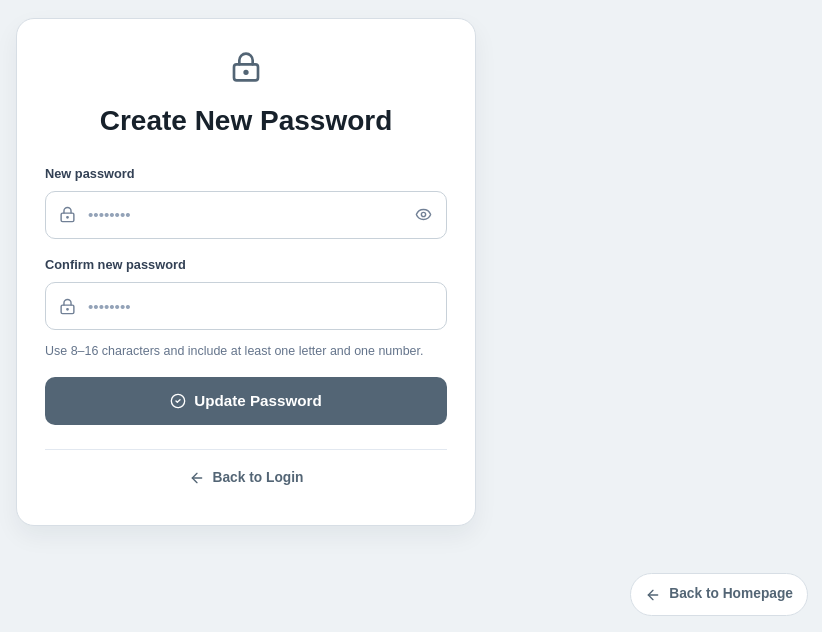
ResetPassword › blocks a second submission while the reset is in flight
In the password field labelled "New password": [246, 215] box [45, 191, 447, 239], type "Str0ng!Pass"
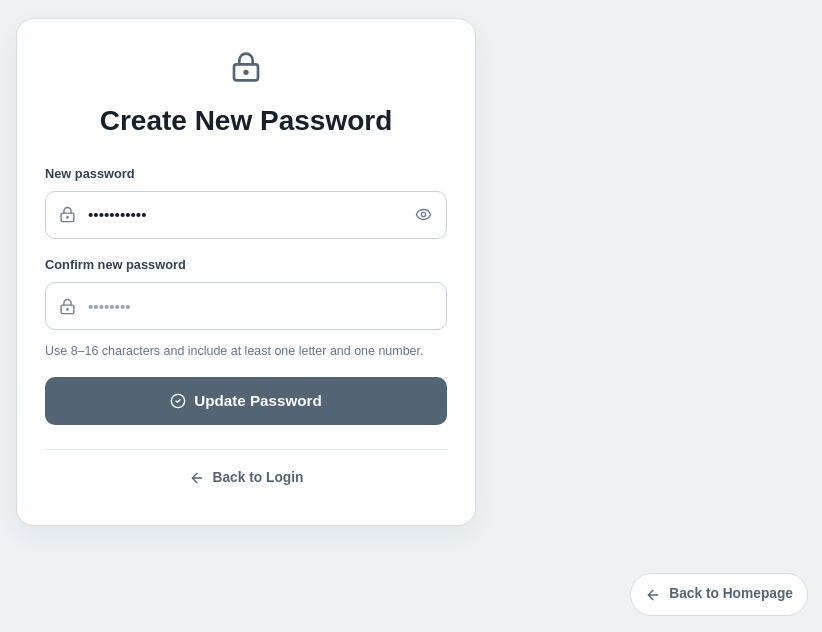
In the password field labelled "Confirm new password": [246, 306] box [45, 282, 447, 330], type "Str0ng!Pass"
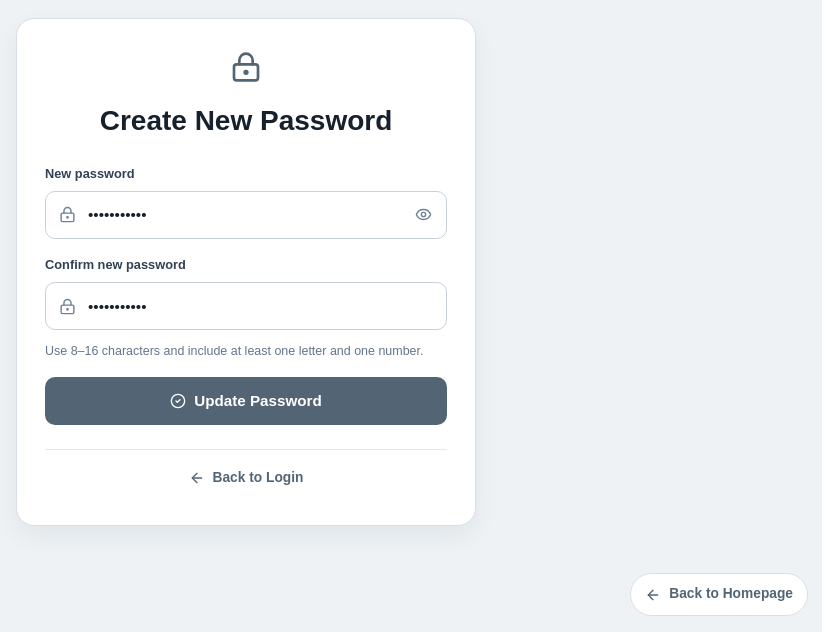
Click the button "Update Password": [246, 401] box [45, 377, 447, 425]
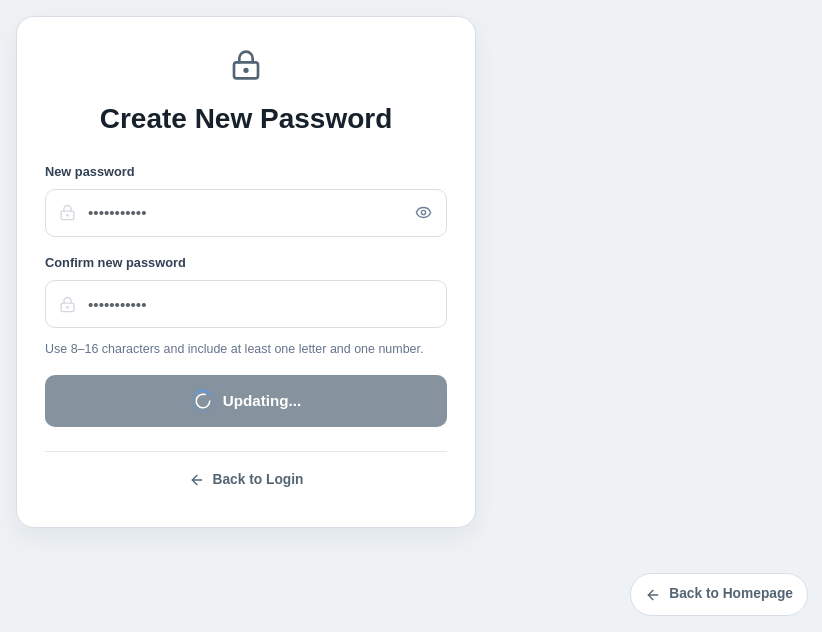
Now the button "Updating..." is disabled
Click the button "Updating...": [246, 401] box [45, 375, 447, 427]
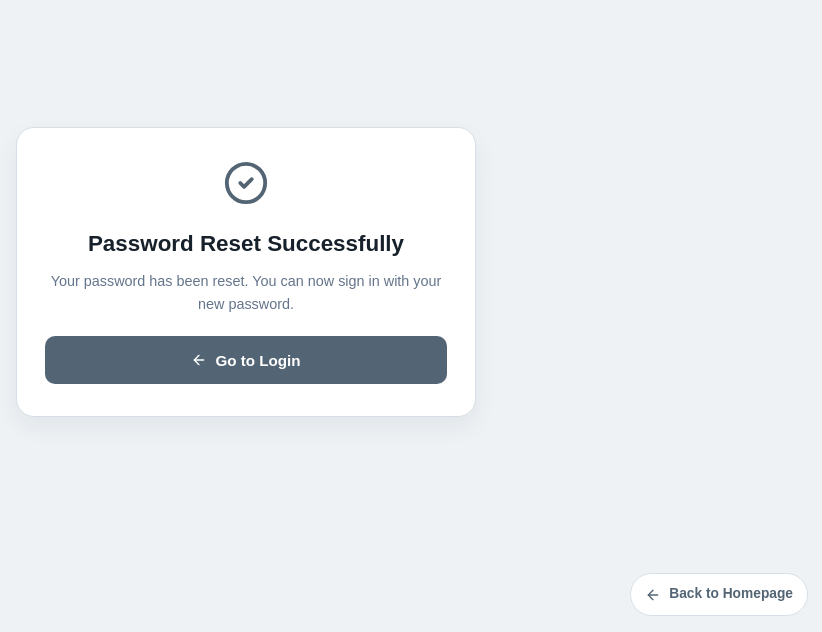
Now the heading "Password Reset Successfully" is shown, box [88, 231, 404, 256]
